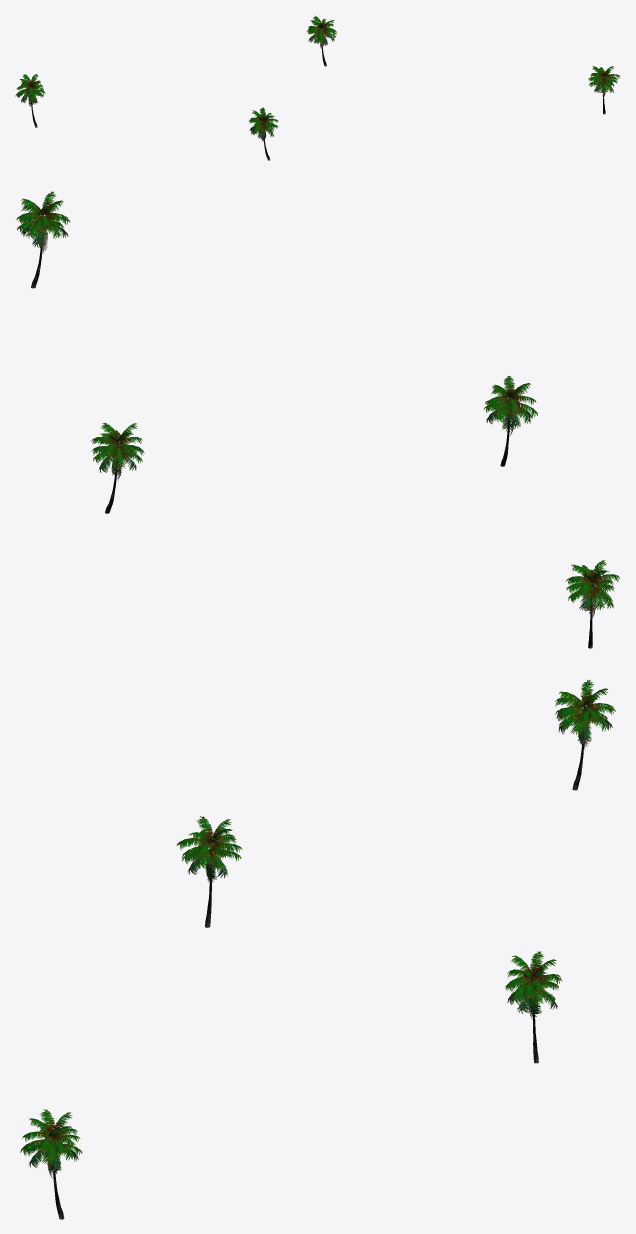
File: coast-0-1.glb
The picture shows the model from 3 angles, top to bottom: view 1: azimuth 30°, elevation 25°; view 2: azimuth 150°, elevation 25°; view 3: azimuth 270°, elevation 25°; orthographic projection. The views are drawn at different scales.
Parts seen in each view (by area): view 1: coast-0-1; view 2: coast-0-1; view 3: coast-0-1.
Part boxes in pixels (<box>): coast-0-1: <box>15,15,620,160</box>; coast-0-1: <box>16,191,620,648</box>; coast-0-1: <box>20,679,615,1219</box>.
Bounding box in the file's own units: 101 × 10.15 × 56.17.
Materials: 16 (16 with a texture image).
